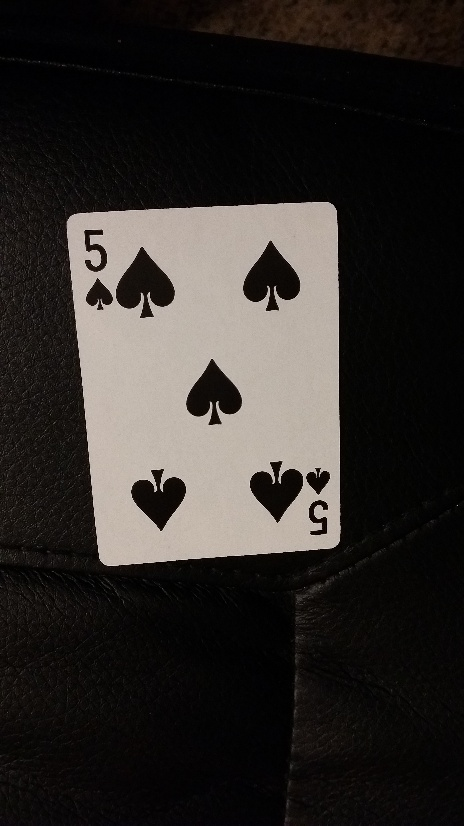S5: (75, 222, 116, 317), (303, 461, 334, 538)
